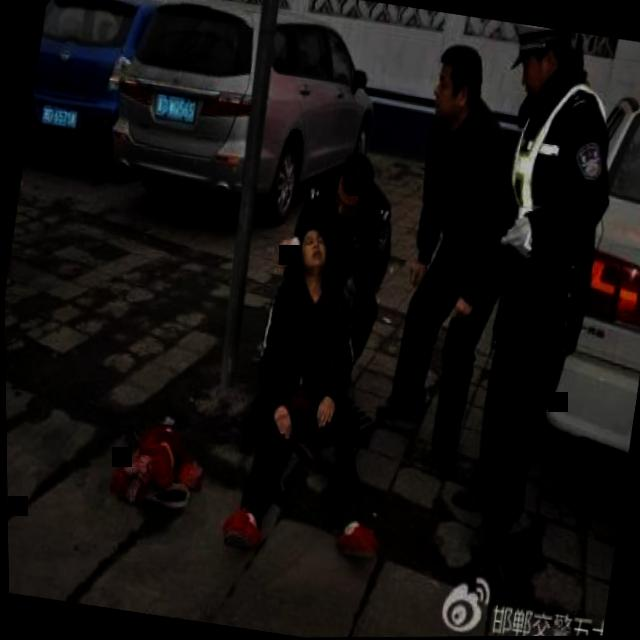Fall-Detected: (99, 389, 217, 526)
